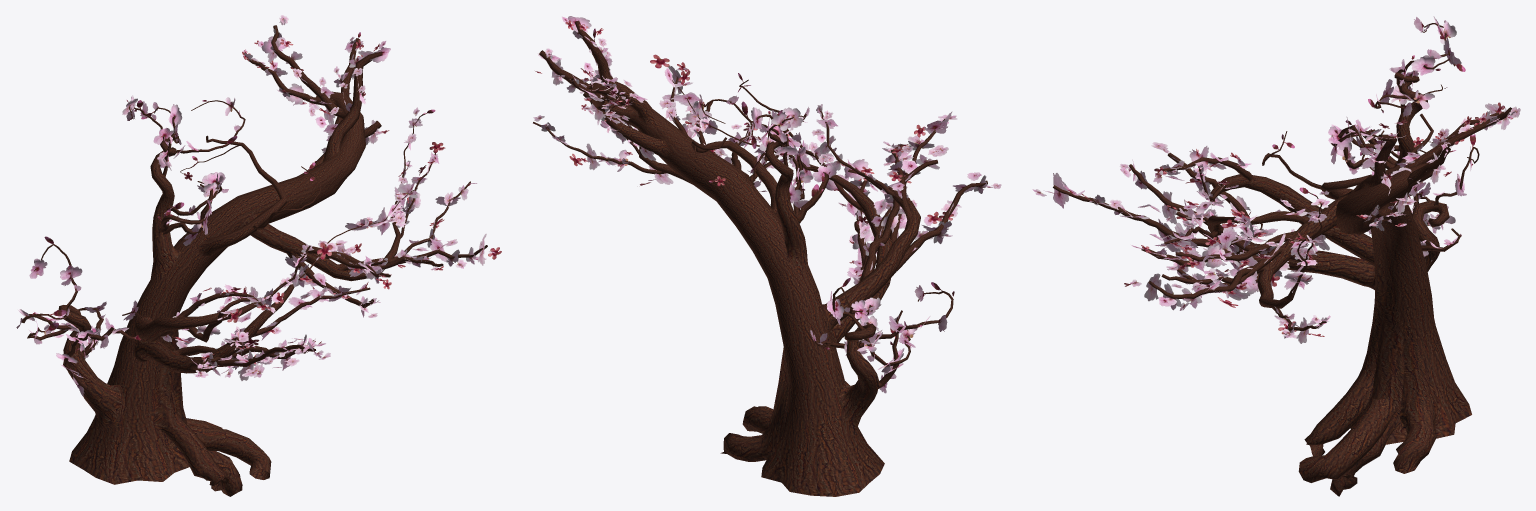
The model's file is Flo_Pottedplant.fbx.
3 views of the same model, side by side, from view 1: azimuth 30°, elevation 25°; view 2: azimuth 150°, elevation 25°; view 3: azimuth 270°, elevation 25° (orthographic). The views are drawn at different scales.
Parts seen in each view (by area): view 1: Flo_Pottedplant_LOD0; view 2: Flo_Pottedplant_LOD0; view 3: Flo_Pottedplant_LOD0.
Boxes of the visible parts, bbox=[...] form: Flo_Pottedplant_LOD0: bbox=[16, 15, 501, 496]; Flo_Pottedplant_LOD0: bbox=[533, 16, 1001, 496]; Flo_Pottedplant_LOD0: bbox=[1032, 16, 1520, 496].
Size of the model in its own units: 91.08 by 77.6 by 80.99.
